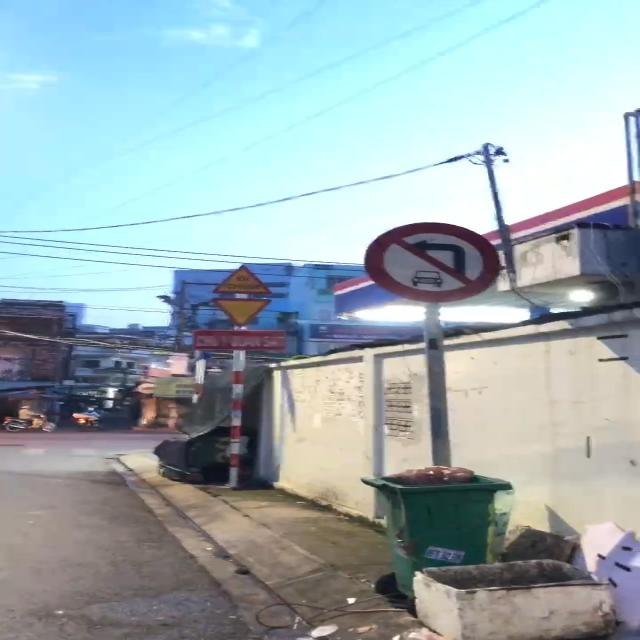Bien bao di cham: (203, 262, 274, 294)
Bien bao giao nhau voi duong uu tien: (209, 296, 276, 327)
